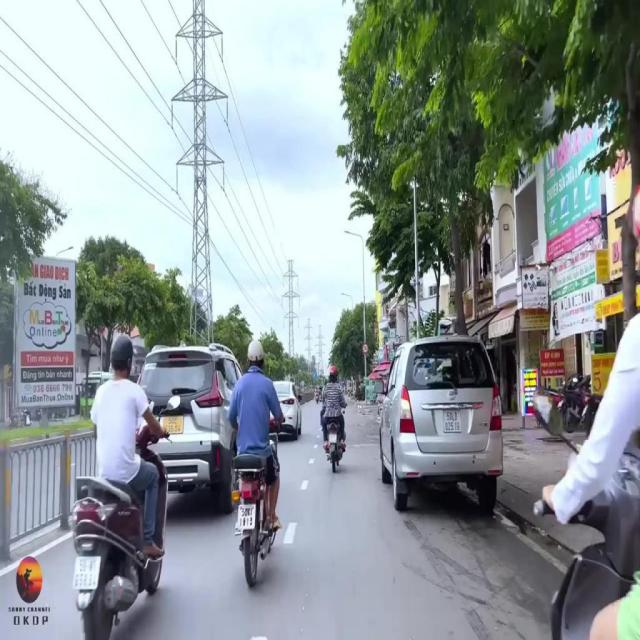toc_do_toi_da_50: (362, 343, 368, 354)
